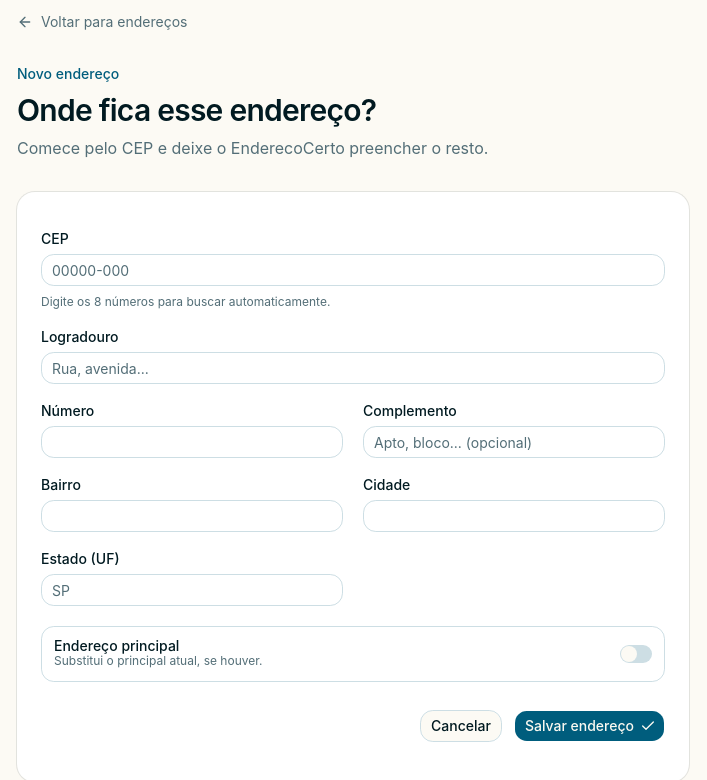
it: FormularioEndereco › preenche os campos automaticamente ao digitar um CEP valido e cria o endereco ao submeter
Later steps or results of the test are not shown.
Type "01001000" into the field labelled "CEP".
click(353, 270); type("01001000")  # box [41,254,665,286]
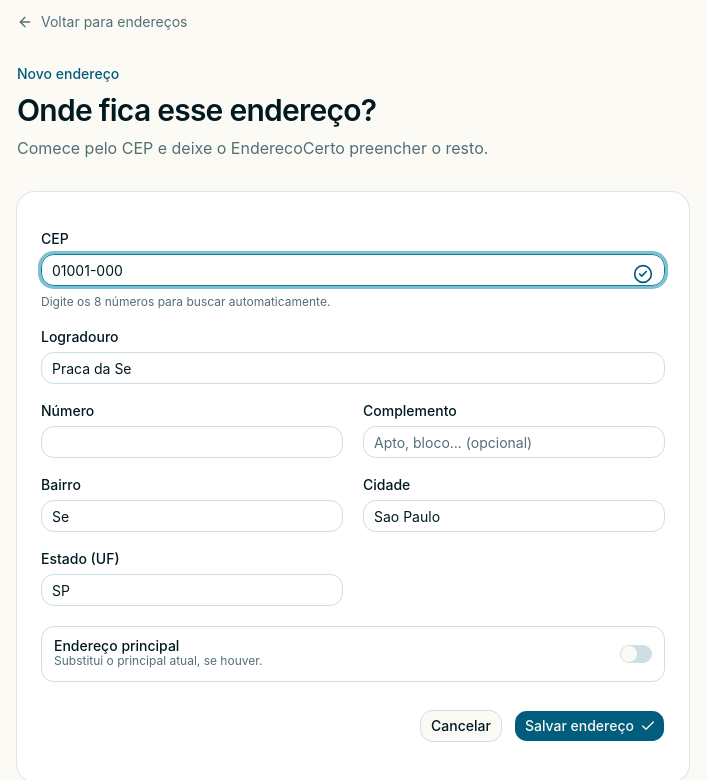
Expected: the field labelled "Logradouro" holds "Praca da Se", [41,352,665,384]
